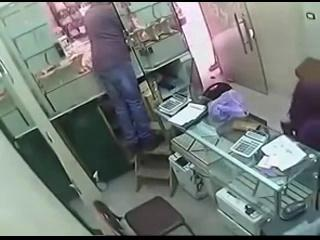Normal: (82, 3, 160, 154)
